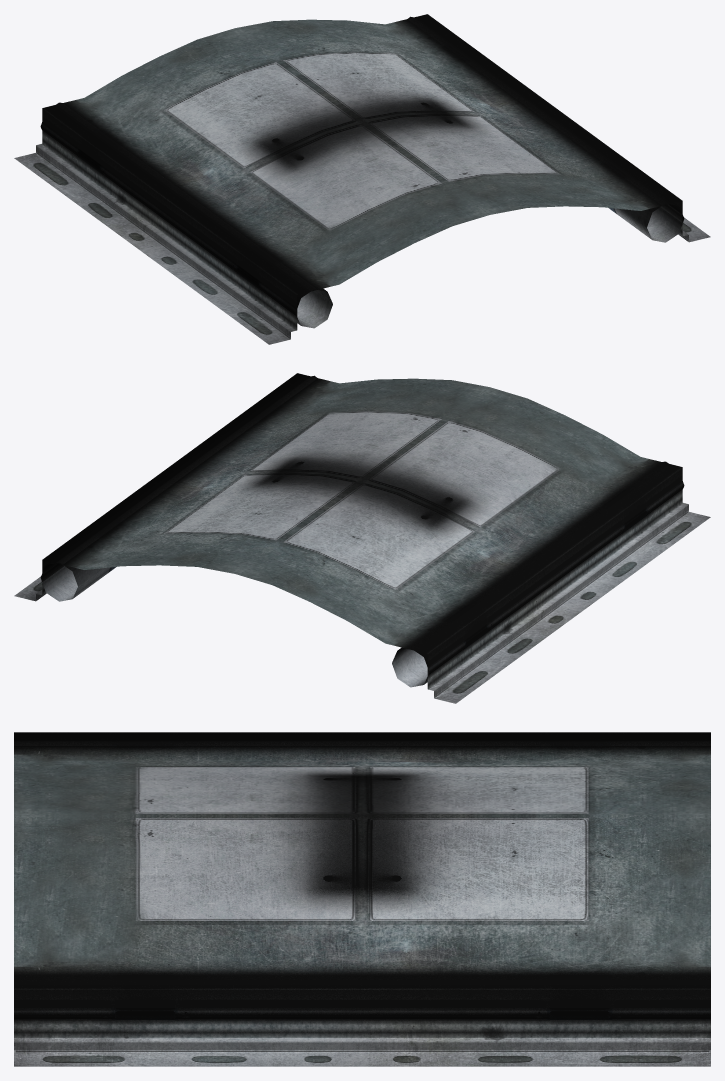
File: Roof2.fbx
The picture shows the model from 3 angles, top to bottom: view 1: azimuth 30°, elevation 25°; view 2: azimuth 150°, elevation 25°; view 3: azimuth 270°, elevation 25°; orthographic projection. The views are drawn at different scales.
Visible parts, largest first — view 1: Roof2; view 2: Roof2; view 3: Roof2.
Part boxes in pixels (<box>): Roof2: <box>14,14,710,344</box>; Roof2: <box>14,373,710,703</box>; Roof2: <box>14,732,710,1066</box>.
Bounding box in the file's own units: 200 × 32.88 × 200.
